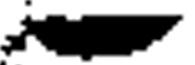Basket: (2, 11, 183, 59)
